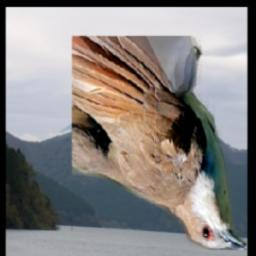Cuckoo: (73, 37, 247, 251)
